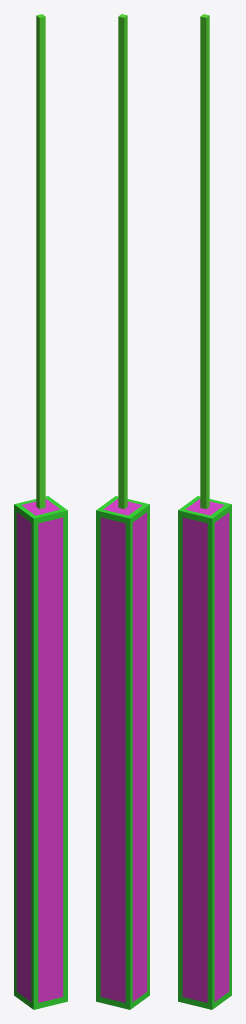
File: Lamp_12.fbx
3 views of the same model, side by side, from view 1: azimuth 30°, elevation 25°; view 2: azimuth 150°, elevation 25°; view 3: azimuth 330°, elevation 25° (orthographic).
Parts seen in each view (by area): view 1: Lamp_12, Lamp_12_Support; view 2: Lamp_12, Lamp_12_Support; view 3: Lamp_12, Lamp_12_Support.
Boxes of the visible parts, box(x1,y1,x2,y2) form: Lamp_12: box(14, 496, 67, 1009); Lamp_12_Support: box(36, 14, 45, 508); Lamp_12: box(96, 496, 149, 1009); Lamp_12_Support: box(118, 14, 127, 508); Lamp_12: box(178, 496, 231, 1009); Lamp_12_Support: box(200, 14, 209, 508).
Bounding box in the file's own units: 18.47 × 508 × 18.47.
